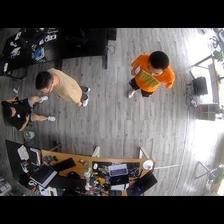normal: (126, 50, 177, 100), (36, 66, 91, 107), (2, 95, 56, 132)
